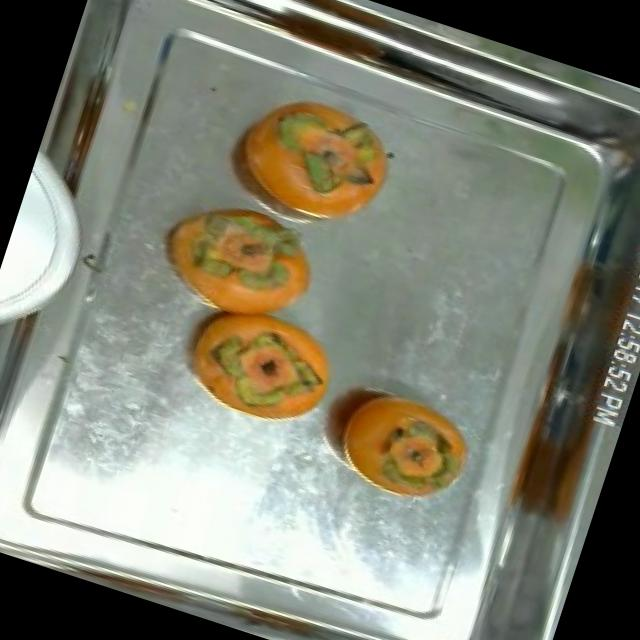Fruit: (208, 73, 412, 245), (136, 176, 337, 347), (294, 361, 495, 525), (160, 286, 356, 448)
